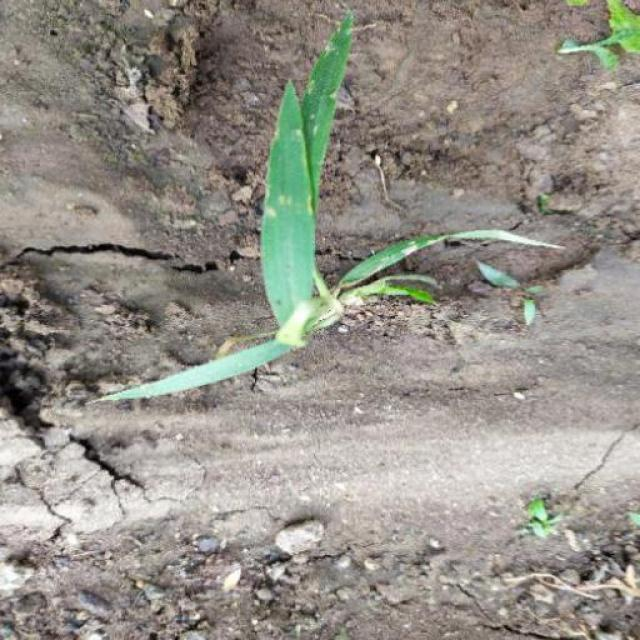weed: (84, 19, 565, 436)
